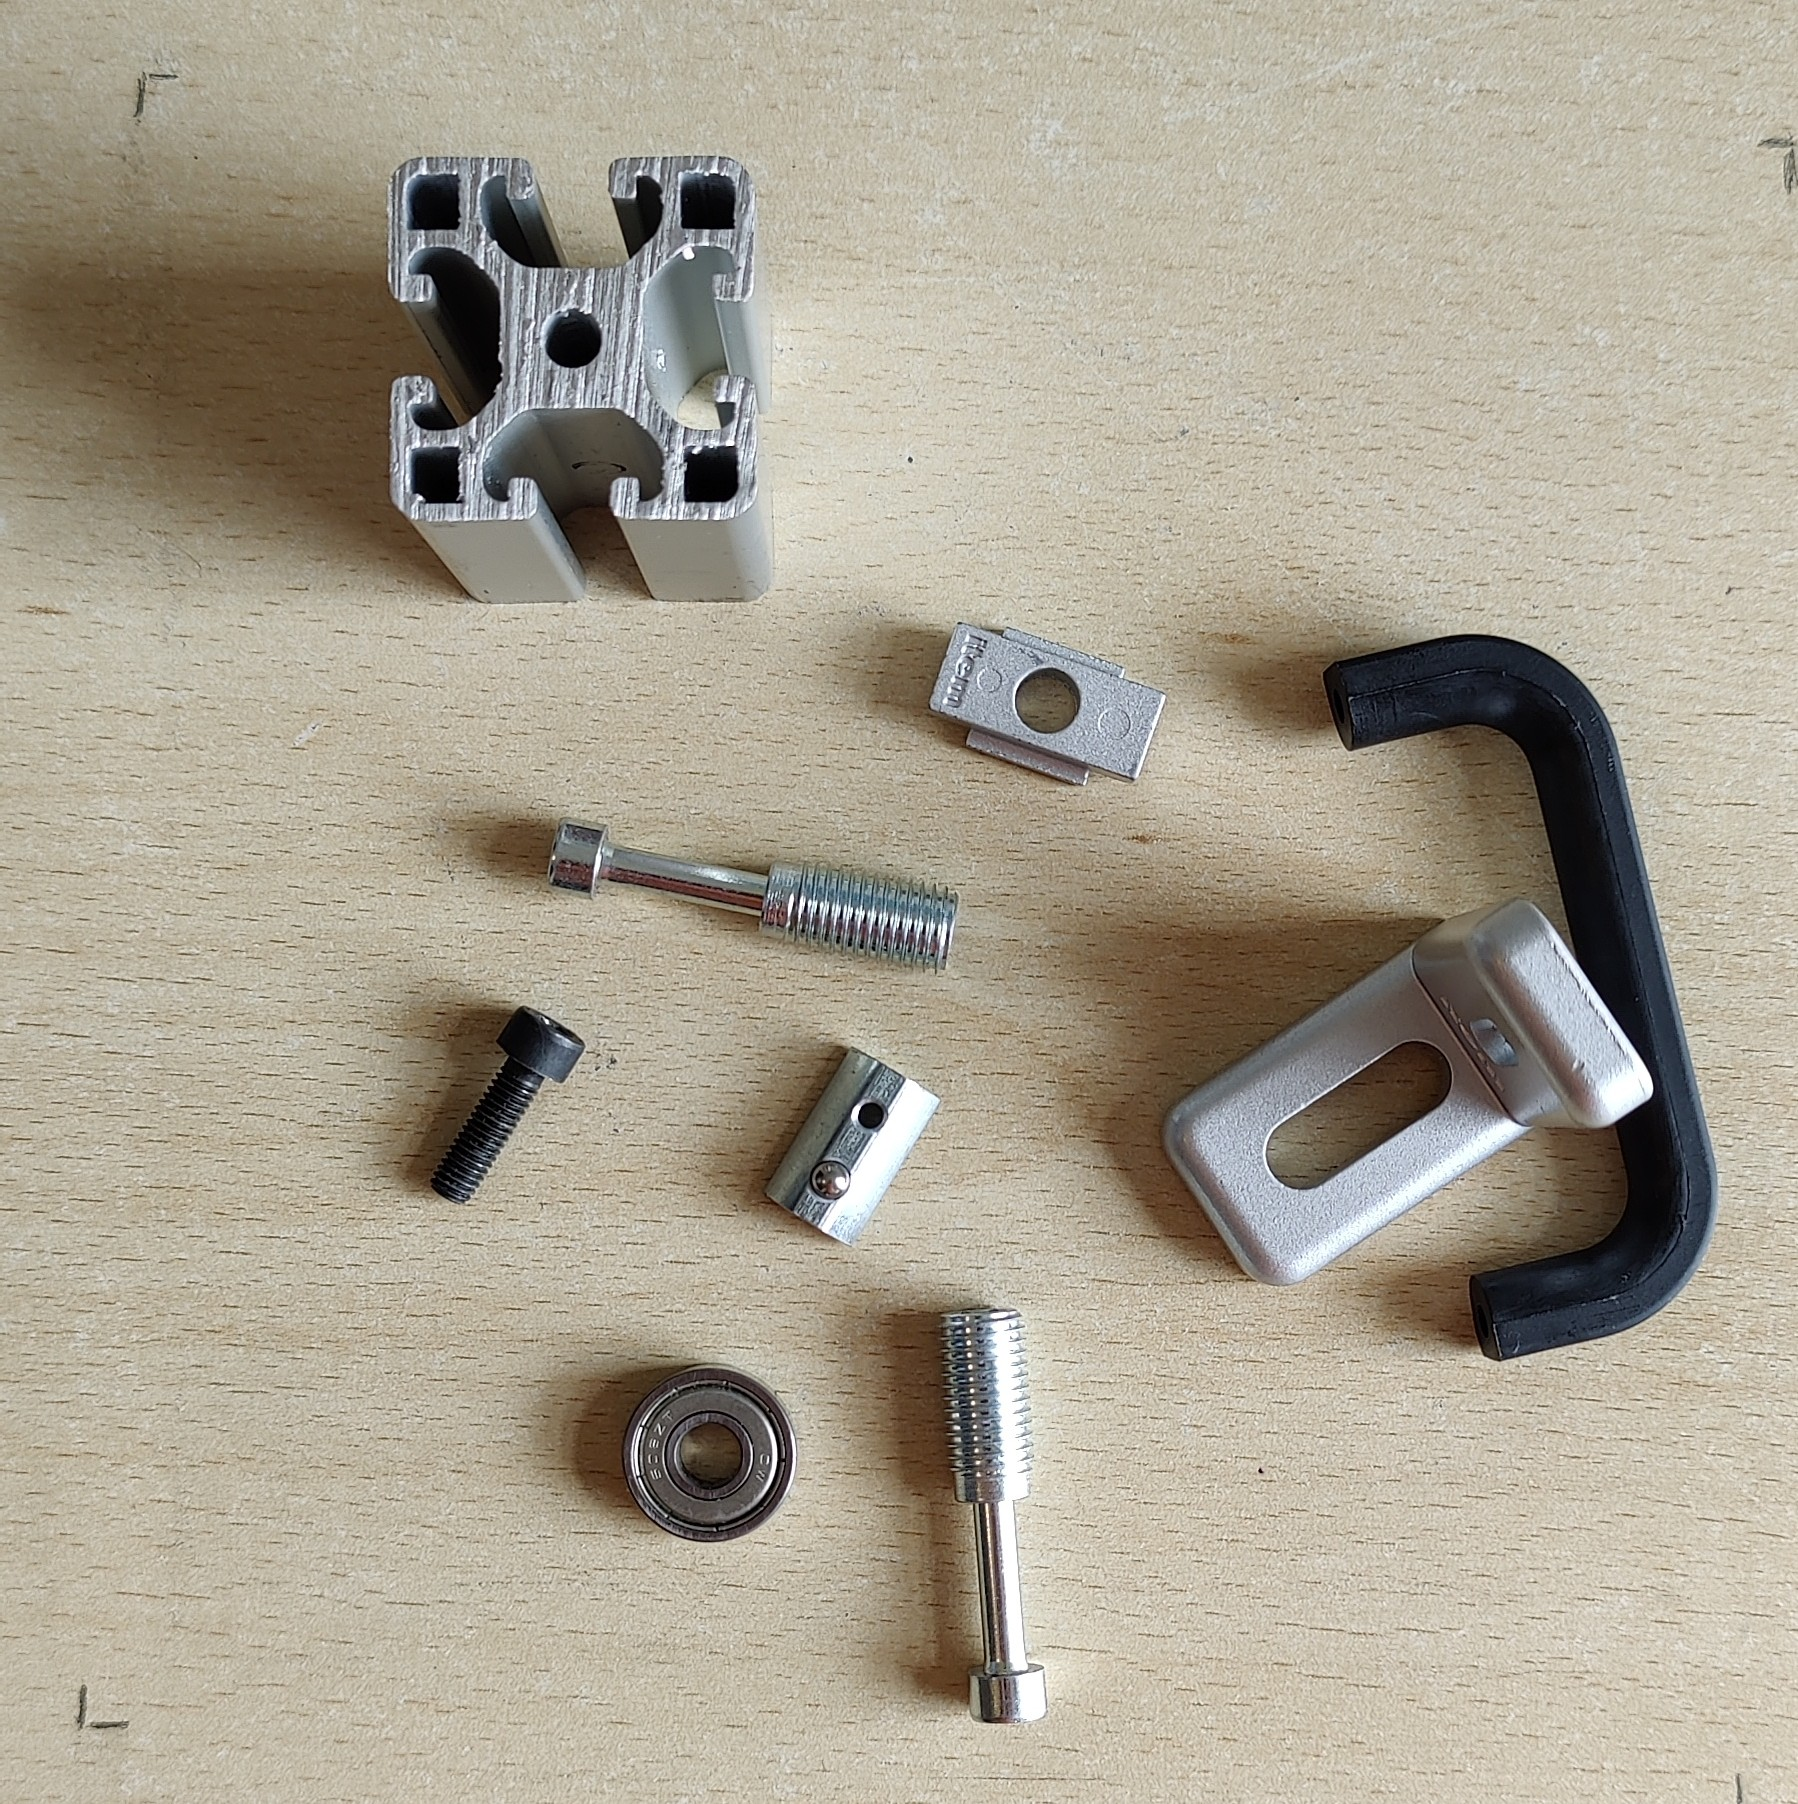Aluminium Extension: (380, 146, 779, 607)
Ball Bearing: (619, 1361, 797, 1544)
Multiwinkel: (1154, 895, 1656, 1289)
Pull Handle: (1321, 629, 1721, 1365)
Shoulder Socket Head Cap Screw: (542, 808, 962, 974), (934, 1302, 1050, 1728)
Socket Head Cap Screw: (428, 1004, 586, 1213)
T Nut Square: (924, 621, 1171, 788)
T Spring Nut: (762, 1040, 943, 1249)
